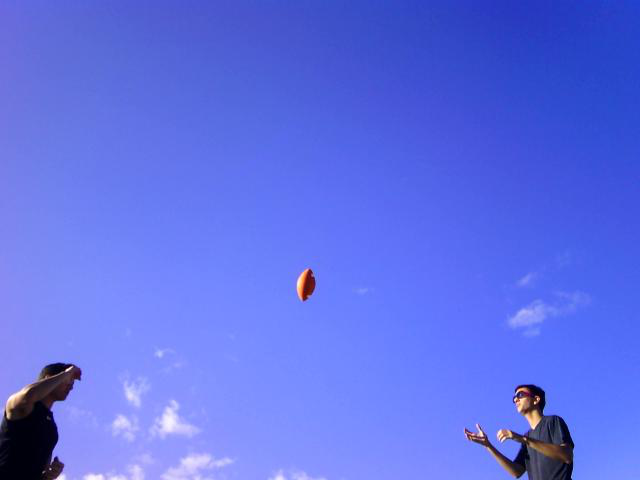football: (293, 266, 318, 306)
